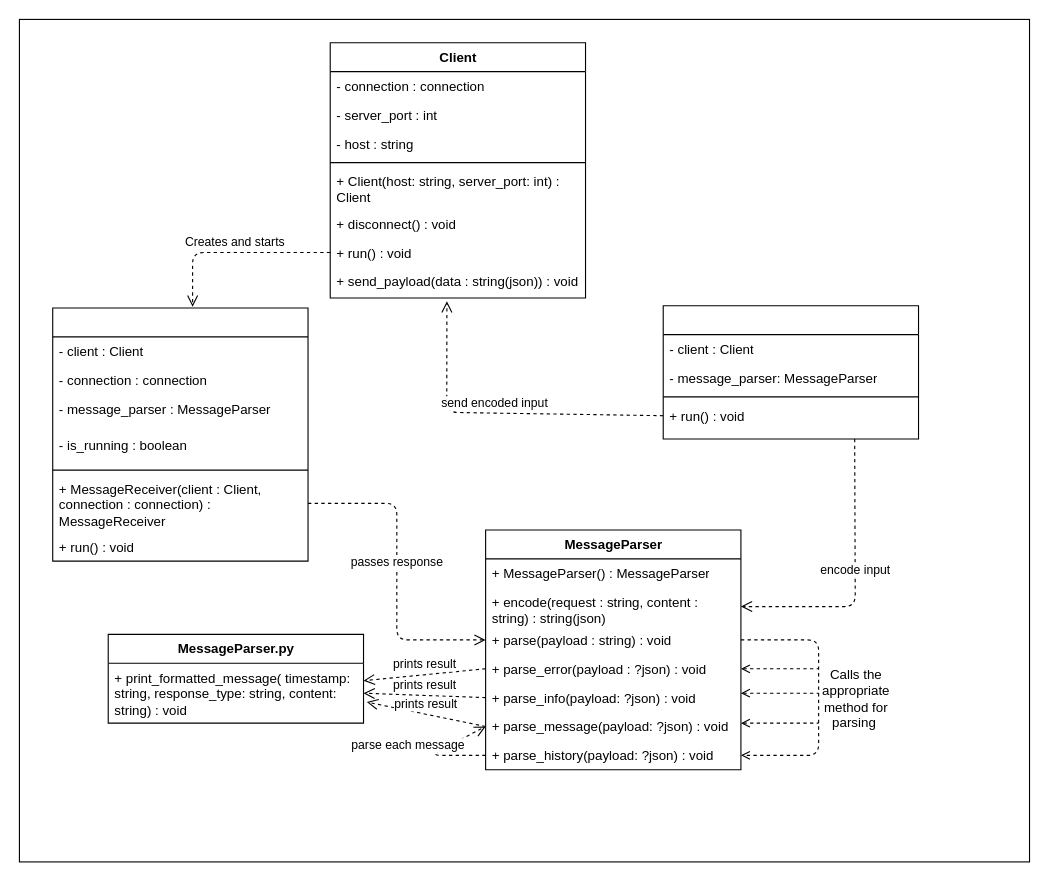
Image size: 1049x881. Some labels were removed from this diagram. The box of each missing label's shape, as (x1, y1, x2, y2) in pixels:
Client.py: (662, 305, 919, 439)
MessageReciever(Thread): (52, 307, 308, 561)
